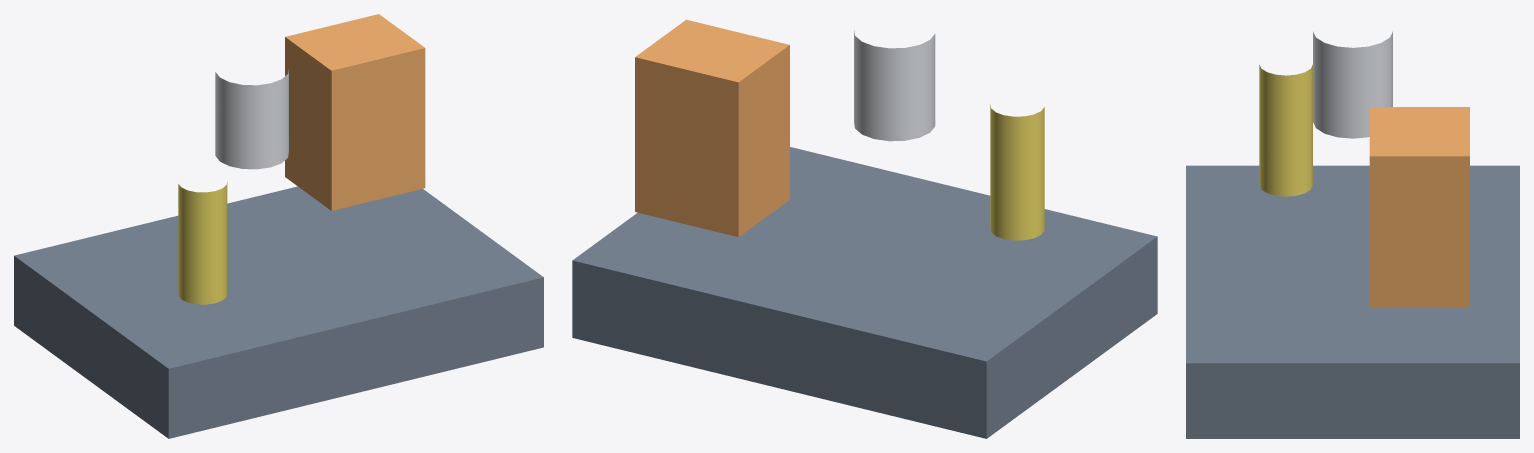
The model's file is jigs_fixtures_design.glb.
3 views of the same model, side by side, from view 1: azimuth 30°, elevation 25°; view 2: azimuth 150°, elevation 25°; view 3: azimuth 270°, elevation 25° (orthographic). The views are drawn at different scales.
Visible parts, largest first — view 1: CastJigMainBaseplate, QuickActingCamClamp, HardenedDrillBushingGuide, ThreeTwoOneLocatingPins; view 2: CastJigMainBaseplate, QuickActingCamClamp, HardenedDrillBushingGuide, ThreeTwoOneLocatingPins; view 3: CastJigMainBaseplate, QuickActingCamClamp, HardenedDrillBushingGuide, ThreeTwoOneLocatingPins.
Part boxes in pixels (x1,y1,x2,y2): CastJigMainBaseplate: (14,186,543,438); QuickActingCamClamp: (285,14,425,210); HardenedDrillBushingGuide: (215,69,288,169); ThreeTwoOneLocatingPins: (178,182,227,304); CastJigMainBaseplate: (572,147,1157,438); QuickActingCamClamp: (635,19,789,237); HardenedDrillBushingGuide: (854,30,935,141); ThreeTwoOneLocatingPins: (990,104,1044,240); CastJigMainBaseplate: (1186,165,1519,438); QuickActingCamClamp: (1369,107,1469,307); HardenedDrillBushingGuide: (1313,31,1392,138); ThreeTwoOneLocatingPins: (1259,64,1312,196).
Size of the model in its own units: 1.4 by 0.975 by 1.
